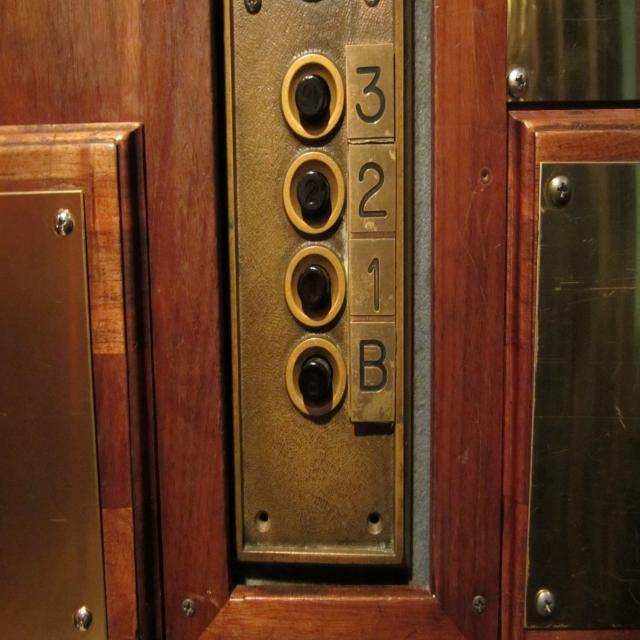1: (348, 235, 396, 318)
2: (283, 150, 345, 234), (347, 142, 396, 234)
3: (345, 43, 395, 143)
B: (348, 318, 396, 424)
blur: (280, 53, 344, 139), (283, 244, 347, 329), (286, 337, 346, 418)
